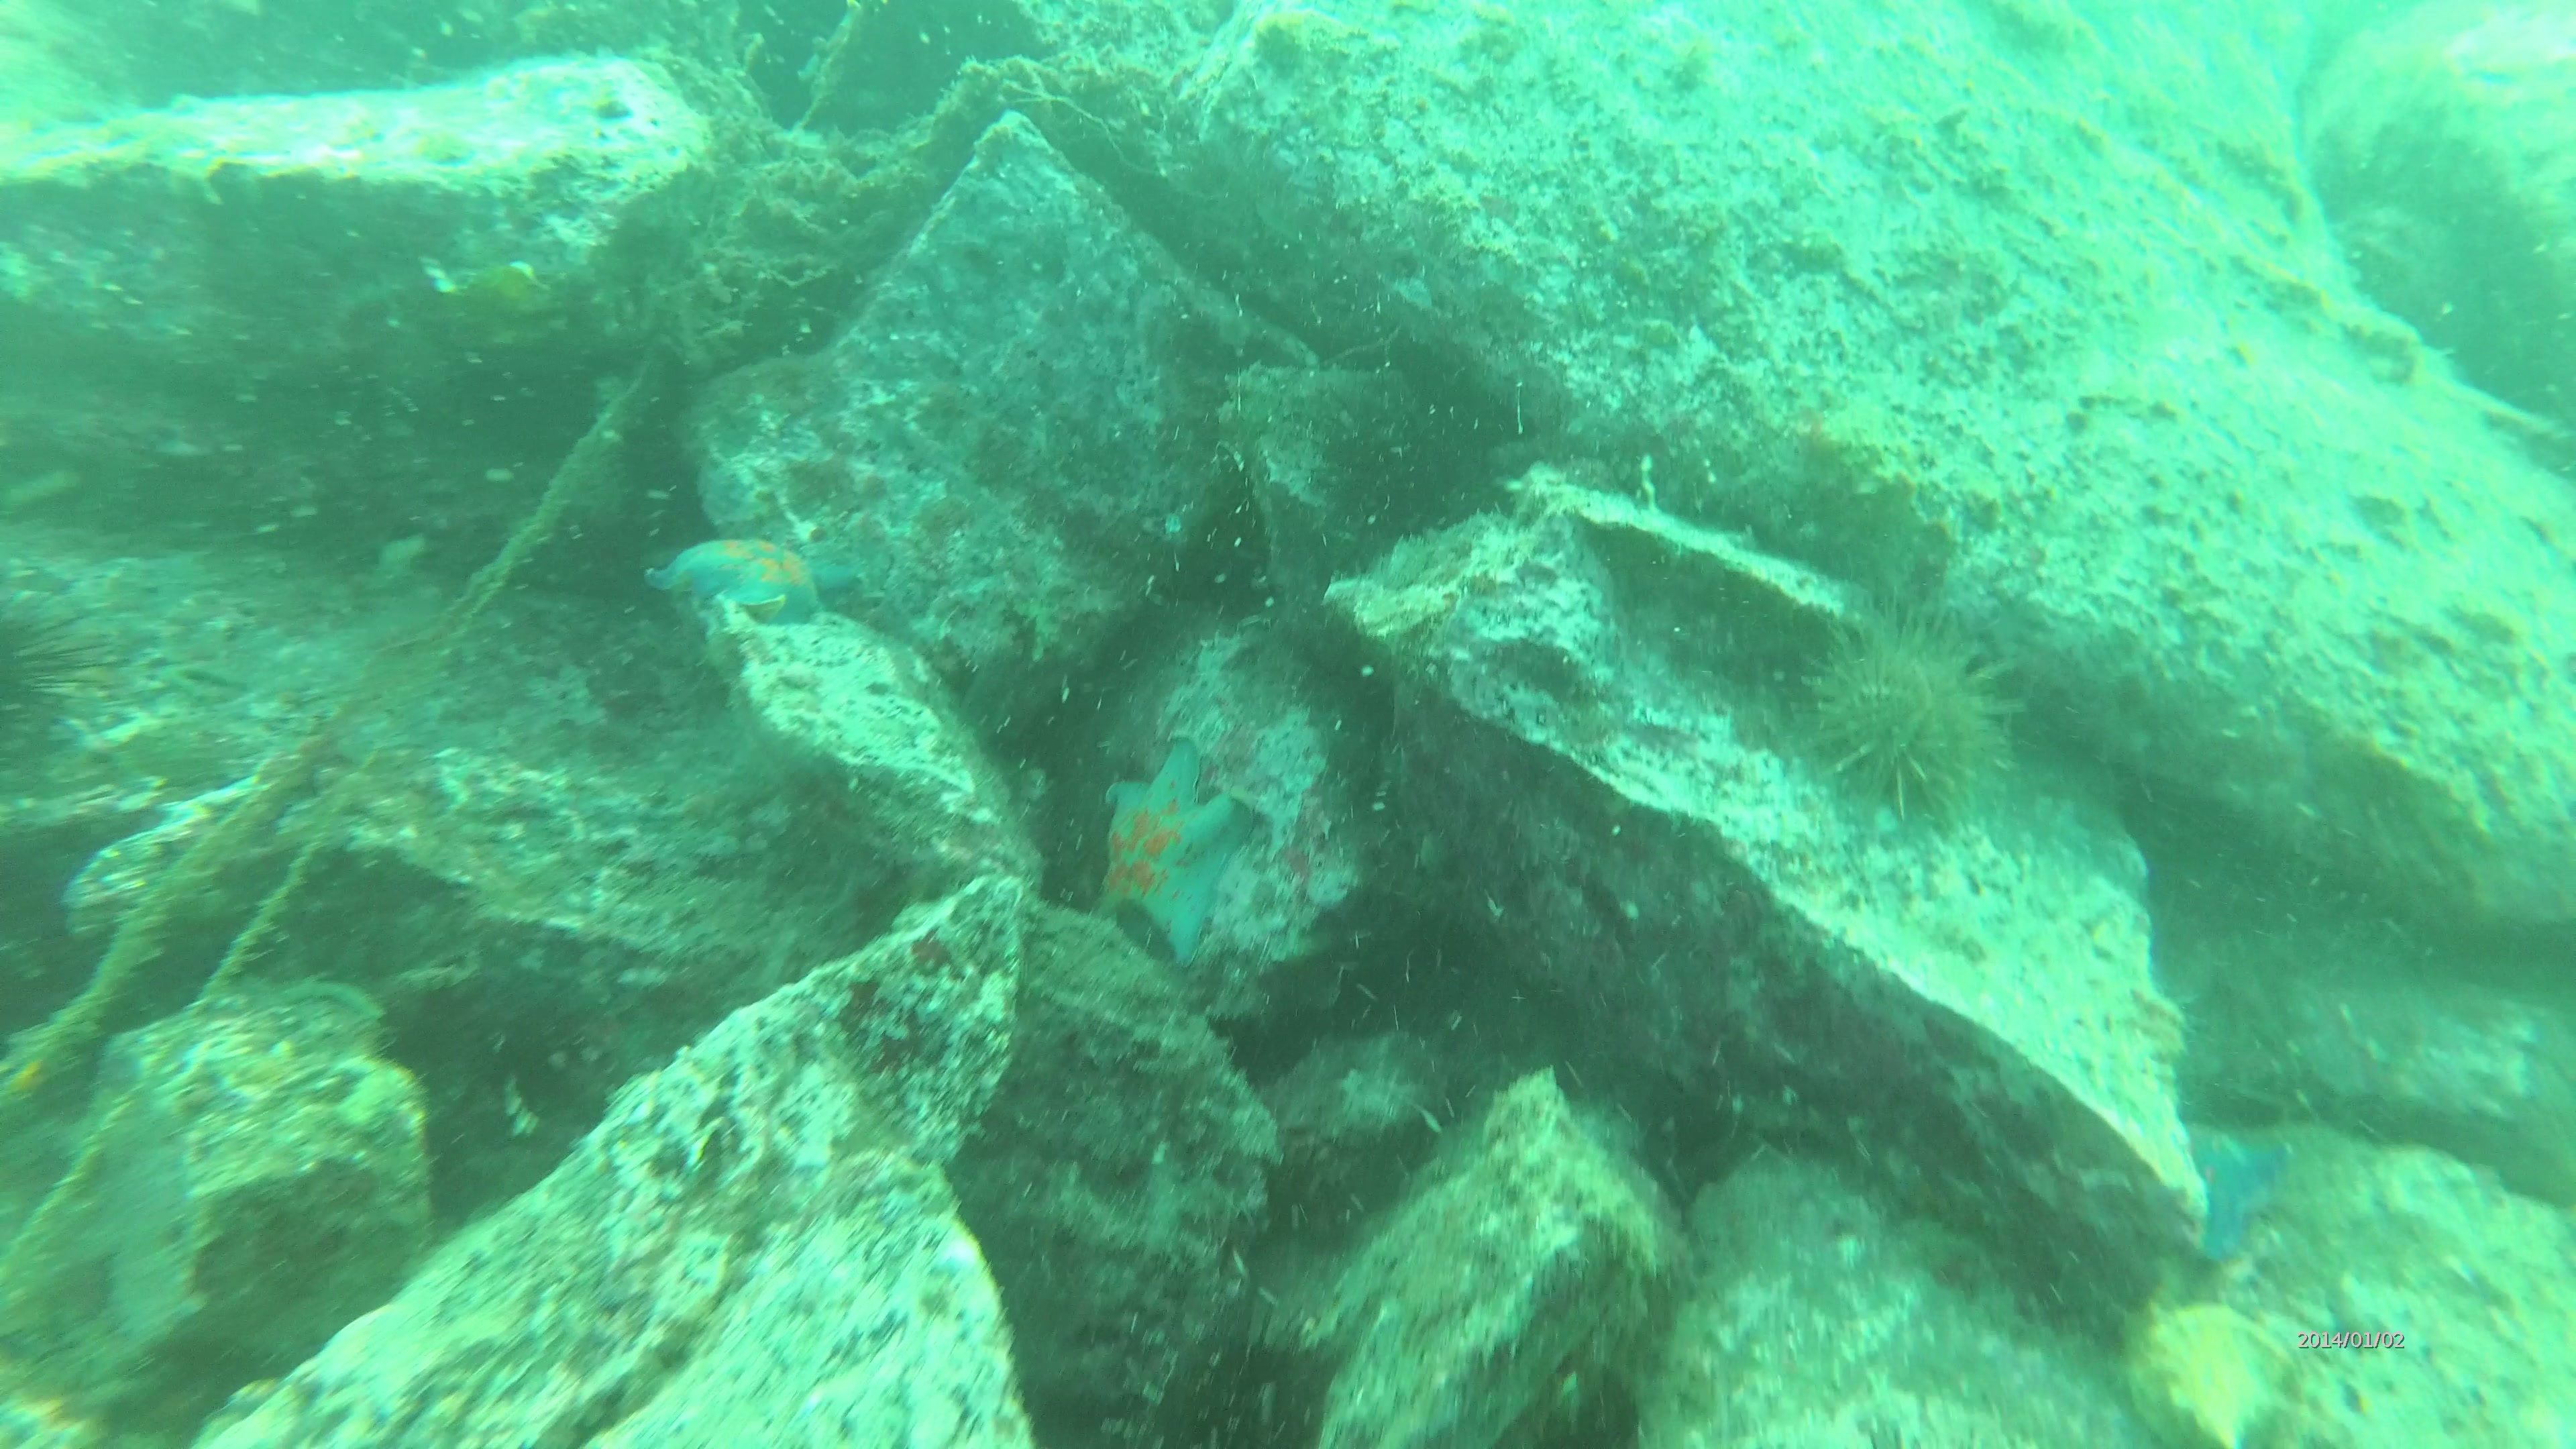echinus: (1789, 593, 2043, 847), (0, 605, 99, 828)
starfish: (1095, 743, 1242, 966), (649, 529, 869, 628), (2171, 1116, 2293, 1270)
